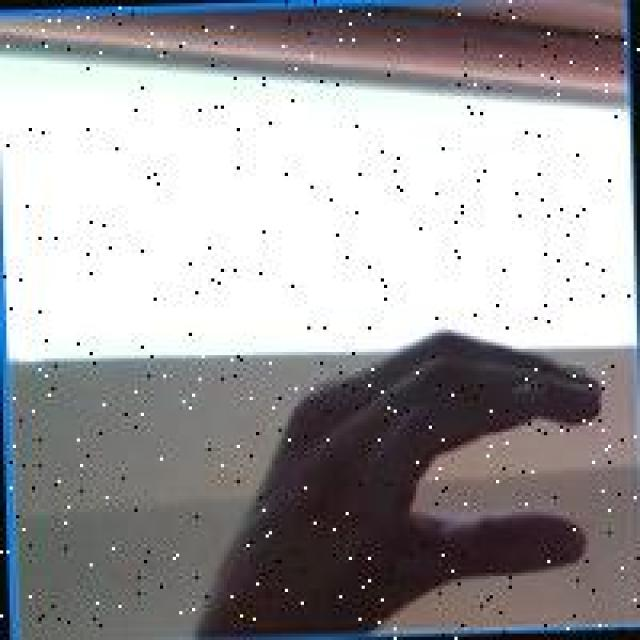C: (227, 314, 618, 595)
